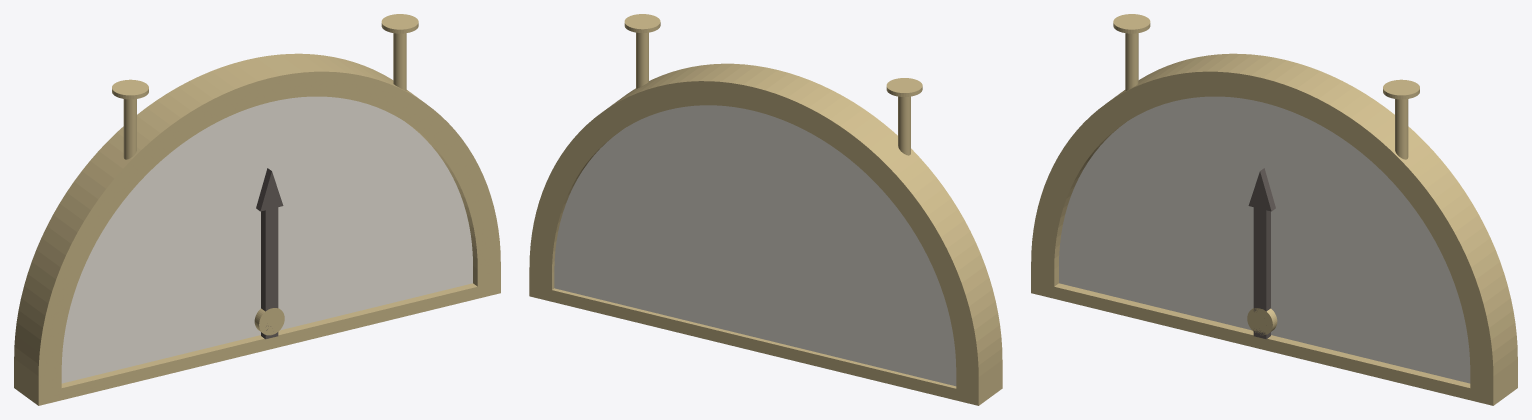
The model's file is lift_indicator.glb.
3 renders of one model, left to right at view 1: azimuth 30°, elevation 25°; view 2: azimuth 150°, elevation 25°; view 3: azimuth 330°, elevation 25°, orthographic. The views are drawn at different scales.
Visible parts, largest first — view 1: IndicatorFace, IndicatorCase, CeilingMounts, IndicatorNeedle, PivotCap; view 2: IndicatorFace, IndicatorCase, CeilingMounts; view 3: IndicatorFace, IndicatorCase, CeilingMounts, IndicatorNeedle, PivotCap.
Boxes of the visible parts, <box> form: IndicatorFace: <box>61,96,472,383</box>; IndicatorCase: <box>14,53,500,405</box>; CeilingMounts: <box>112,14,418,159</box>; IndicatorNeedle: <box>256,168,283,339</box>; PivotCap: <box>254,308,284,335</box>; IndicatorFace: <box>554,105,956,386</box>; IndicatorCase: <box>529,63,1002,405</box>; CeilingMounts: <box>624,14,922,155</box>; IndicatorFace: <box>1059,96,1470,383</box>; IndicatorCase: <box>1031,53,1517,405</box>; CeilingMounts: <box>1113,14,1419,159</box>; IndicatorNeedle: <box>1248,168,1275,339</box>; PivotCap: <box>1247,308,1277,335</box>.
Size of the model in its own units: 0.36 by 0.217 by 0.0395.
